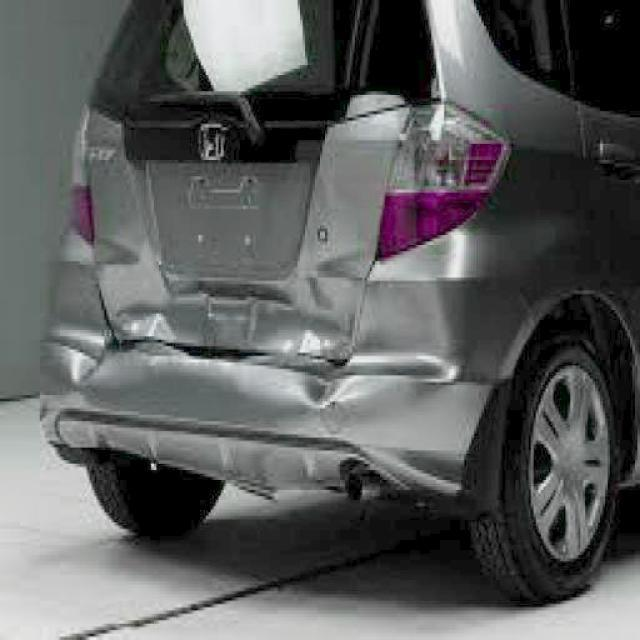car damage: (30, 216, 476, 502)
